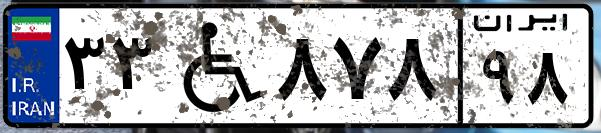3: (57, 26, 110, 100), (110, 28, 158, 98)
7: (330, 28, 385, 110)
8: (270, 28, 330, 110), (385, 28, 445, 110), (525, 38, 570, 115)
9: (475, 38, 525, 113)
ژ (معلولین و جانبازان): (158, 12, 270, 120)
